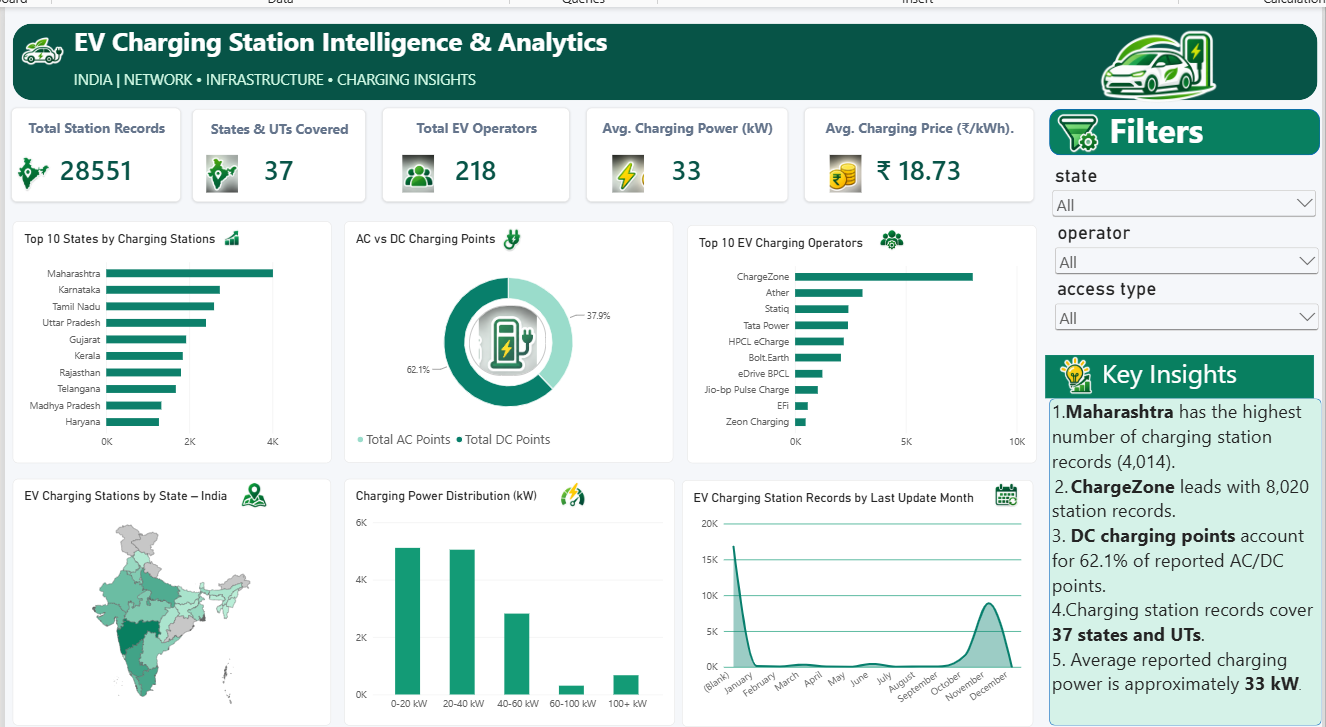

The dashboard page shown, as its layout file describes it:
{"tool":"powerbi","page":{"name":"Page 1","canvas":[1920,1080],"ordinal":0},"visuals":[{"type":"shape","box":[11.8,23.5,1902.9,111.8],"z":0},{"type":"textbox","box":[58.8,23.5,844.1,55.9],"z":1000},{"type":"textbox","box":[58.8,91.2,764.7,44.1],"z":2000},{"type":"card","title":"Total Station Records","fields":{"Values":["charging_stations_cleaned.Total Station Records"]},"box":[9.3,146.9,247.3,137.6],"z":3000},{"type":"card","title":"States & UTs Covered","fields":{"Values":["charging_stations_cleaned.Total States"]},"box":[273.3,148.7,252.9,135.7],"z":4000},{"type":"card","title":"Avg. Charging Power (kW)","fields":{"Values":["charging_stations_cleaned.Average Charging Power"]},"box":[847.8,146.9,293.8,137.6],"z":5000},{"type":"card","title":"Total EV Operators","fields":{"Values":["charging_stations_cleaned.Total Operators"]},"box":[550.3,146.9,273.3,137.6],"z":6000},{"type":"clusteredBarChart","title":"    Top 10 States by Charging Stations","fields":{"Category":["charging_stations_cleaned.state"],"Y":["charging_stations_cleaned.Total Station Records"]},"box":[11.2,312.3,464.8,353.3],"z":7000},{"type":"donutChart","title":"AC vs DC Charging Points","fields":{"Y":["charging_stations_cleaned.Total AC Points","charging_stations_cleaned.Total DC Points"]},"box":[495,312.5,480,352.5],"z":8000},{"type":"clusteredBarChart","title":"Top 10 EV Charging Operators","fields":{"Category":["charging_stations_cleaned.operator"],"Y":["charging_stations_cleaned.Total Station Records"]},"box":[995,317.5,510,347.5],"z":9000},{"type":"slicer","title":"EV Charging Stations by State – India","fields":{"Values":["charging_stations_cleaned.state"]},"box":[1522.9,228.6,394.3,82.9],"z":10000},{"type":"clusteredColumnChart","title":"Charging Power Distribution (kW)","fields":{"Category":["charging_stations_cleaned.Power Range"],"Y":["CountNonNull(charging_stations_cleaned.station_id)"]},"box":[495,687.5,482,360],"z":11000},{"type":"areaChart","title":"EV Charging Station Records by Last Update Month","fields":{"Category":["charging_stations_cleaned.last_updated.Variation.Date Hierarchy.Month"],"Y":["CountNonNull(charging_stations_cleaned.station_id)"]},"box":[987.5,690,512,360],"z":12000},{"type":"shapeMap","title":"EV Charging Stations by State – India","fields":{"Category":["charging_stations_cleaned.state"],"Value":["CountNonNull(charging_stations_cleaned.station_id)"]},"box":[12,688,464,360],"z":13000},{"type":"shape","box":[1522.9,148.6,395,67.5],"z":14000},{"type":"textbox","box":[1610,147.5,154.3,74.3],"z":15000},{"type":"slicer","title":"EV Charging Stations by State – India","fields":{"Values":["charging_stations_cleaned.operator"]},"box":[1525.7,311.4,394.3,82.9],"z":16000},{"type":"slicer","title":"EV Charging Stations by State – India","fields":{"Values":["charging_stations_cleaned.access"]},"box":[1525.7,394.3,394.3,82.9],"z":17000},{"type":"shape","box":[1522.9,571.4,397.1,477.1],"z":18000},{"type":"textbox","box":[1517.5,507.5,391.4,62.9],"z":19000},{"type":"textbox","box":[1526.5,570.6,388.2,476.5],"z":20000},{"type":"card","title":"Avg. Charging Price (₹/kWh).","fields":{"Values":["charging_stations_cleaned.Avg Charging Price"]},"box":[1165.7,146.9,334.7,137.6],"z":21000},{"type":"image","box":[677.5,435,112.5,102.5],"z":22000},{"type":"image","box":[257.5,215,120,55],"z":23000},{"type":"image","box":[550,215,105,55],"z":24000},{"type":"image","box":[852.5,215,110,55],"z":25000},{"type":"image","box":[1165,215,120,55],"z":26000},{"type":"image","box":[285,322.5,92.5,30],"z":27000},{"type":"image","box":[10,177.5,70,130],"z":28000},{"type":"image","box":[697.5,317.5,87.5,42.5],"z":30000},{"type":"image","box":[1255,320,77.5,37.5],"z":31000},{"type":"image","box":[332.5,690,62.5,42.5],"z":32000},{"type":"image","box":[797.5,690,62.5,42.5],"z":33000},{"type":"image","box":[1420,690,80,42.5],"z":34000},{"type":"image","box":[1505,147.5,122.5,72.5],"z":35000},{"type":"image","box":[1505,507.5,117.5,60],"z":36000},{"type":"image","box":[0,22.5,112.5,90],"z":37000},{"type":"image","box":[1450,0,470,177.5],"z":37001}]}

Visuals, with their boxes on the page's 1920x1080 design canvas (x1, y1, x2, y2). These are canvas units, not pixel positions in the 1326x727 screenshot, which may show the page scaled, cropped or inside an application window:
shape: rect(12, 24, 1915, 135)
textbox: rect(59, 24, 903, 79)
textbox: rect(59, 91, 824, 135)
"Total Station Records" card: rect(9, 147, 257, 284)
"States & UTs Covered" card: rect(273, 149, 526, 284)
"Avg. Charging Power (kW)" card: rect(848, 147, 1142, 284)
"Total EV Operators" card: rect(550, 147, 824, 284)
"    Top 10 States by Charging Stations" clusteredBarChart: rect(11, 312, 476, 666)
"AC vs DC Charging Points" donutChart: rect(495, 312, 975, 665)
"Top 10 EV Charging Operators" clusteredBarChart: rect(995, 318, 1505, 665)
"EV Charging Stations by State – India" slicer: rect(1523, 229, 1917, 312)
"Charging Power Distribution (kW)" clusteredColumnChart: rect(495, 688, 977, 1048)
"EV Charging Station Records by Last Update Month" areaChart: rect(988, 690, 1500, 1050)
"EV Charging Stations by State – India" shapeMap: rect(12, 688, 476, 1048)
shape: rect(1523, 149, 1918, 216)
textbox: rect(1610, 148, 1764, 222)
"EV Charging Stations by State – India" slicer: rect(1526, 311, 1920, 394)
"EV Charging Stations by State – India" slicer: rect(1526, 394, 1920, 477)
shape: rect(1523, 571, 1920, 1048)
textbox: rect(1518, 508, 1909, 570)
textbox: rect(1526, 571, 1915, 1047)
"Avg. Charging Price (₹/kWh)." card: rect(1166, 147, 1500, 284)
image: rect(678, 435, 790, 538)
image: rect(258, 215, 378, 270)
image: rect(550, 215, 655, 270)
image: rect(852, 215, 962, 270)
image: rect(1165, 215, 1285, 270)
image: rect(285, 322, 378, 352)
image: rect(10, 178, 80, 308)
image: rect(698, 318, 785, 360)
image: rect(1255, 320, 1332, 358)
image: rect(332, 690, 395, 732)
image: rect(798, 690, 860, 732)
image: rect(1420, 690, 1500, 732)
image: rect(1505, 148, 1628, 220)
image: rect(1505, 508, 1622, 568)
image: rect(0, 22, 112, 112)
image: rect(1450, 0, 1920, 178)
